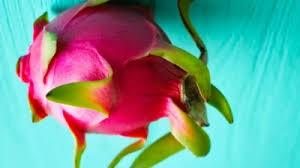dragon fruit: (15, 0, 233, 167)
